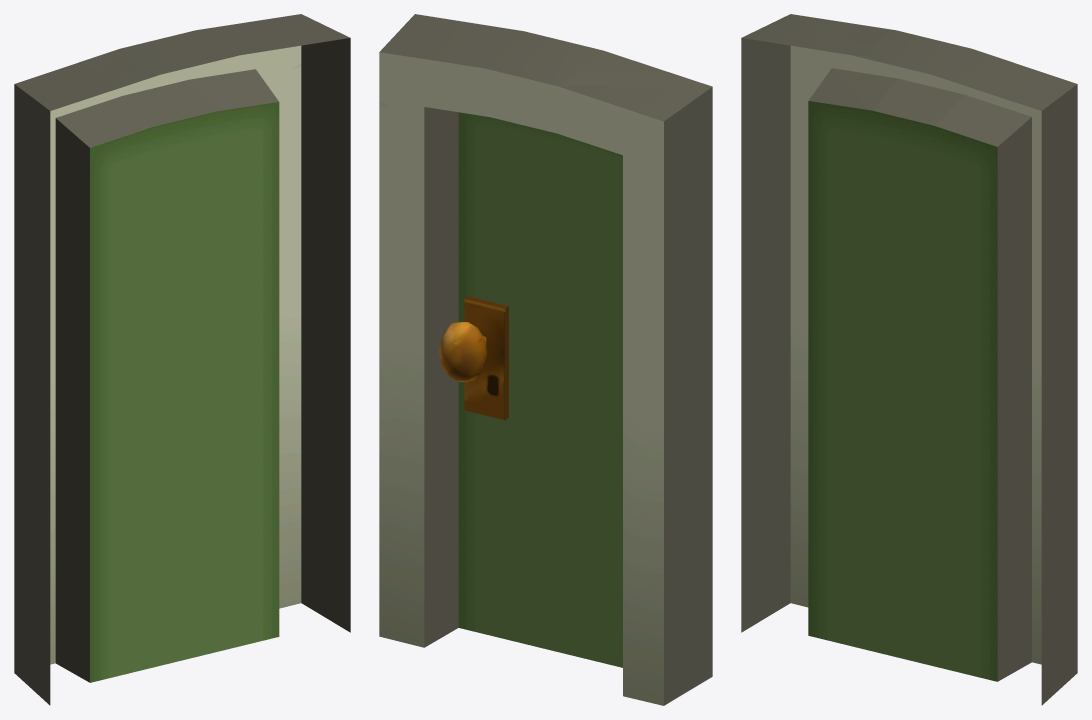
Rendered from green_door_border.FBX.
3 renders of one model, left to right at view 1: azimuth 30°, elevation 25°; view 2: azimuth 150°, elevation 25°; view 3: azimuth 330°, elevation 25°, orthographic.
Visible parts, largest first — view 1: Mesh_0031; view 2: Mesh_0031; view 3: Mesh_0031.
Boxes of the visible parts, box(x1,y1,x2,y2) form: Mesh_0031: box(14, 14, 350, 705); Mesh_0031: box(379, 14, 712, 705); Mesh_0031: box(741, 14, 1077, 705).
Bounding box in the file's own units: 415 × 798 × 103.
